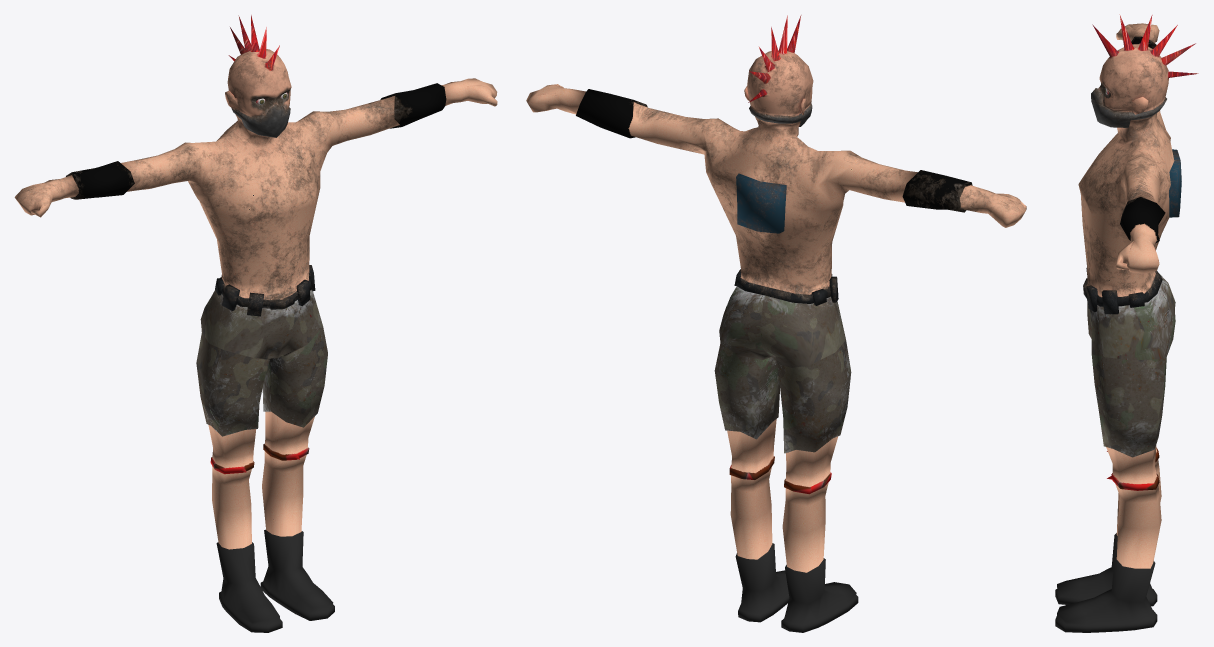
The model's file is npc2.obj.
3 renders of one model, left to right at view 1: azimuth 30°, elevation 25°; view 2: azimuth 150°, elevation 25°; view 3: azimuth 270°, elevation 25°, orthographic. The views are drawn at different scales.
Parts seen in each view (by area): view 1: NPC2; view 2: NPC2; view 3: NPC2.
Part boxes in pixels (left/top/right/bottom): NPC2: left=14, top=15, right=497, bottom=632; NPC2: left=526, top=15, right=1026, bottom=632; NPC2: left=1055, top=14, right=1198, bottom=632.
Bounding box in the file's own units: 8.78 × 10.21 × 2.24.
Materials: 2 (2 with a texture image).
